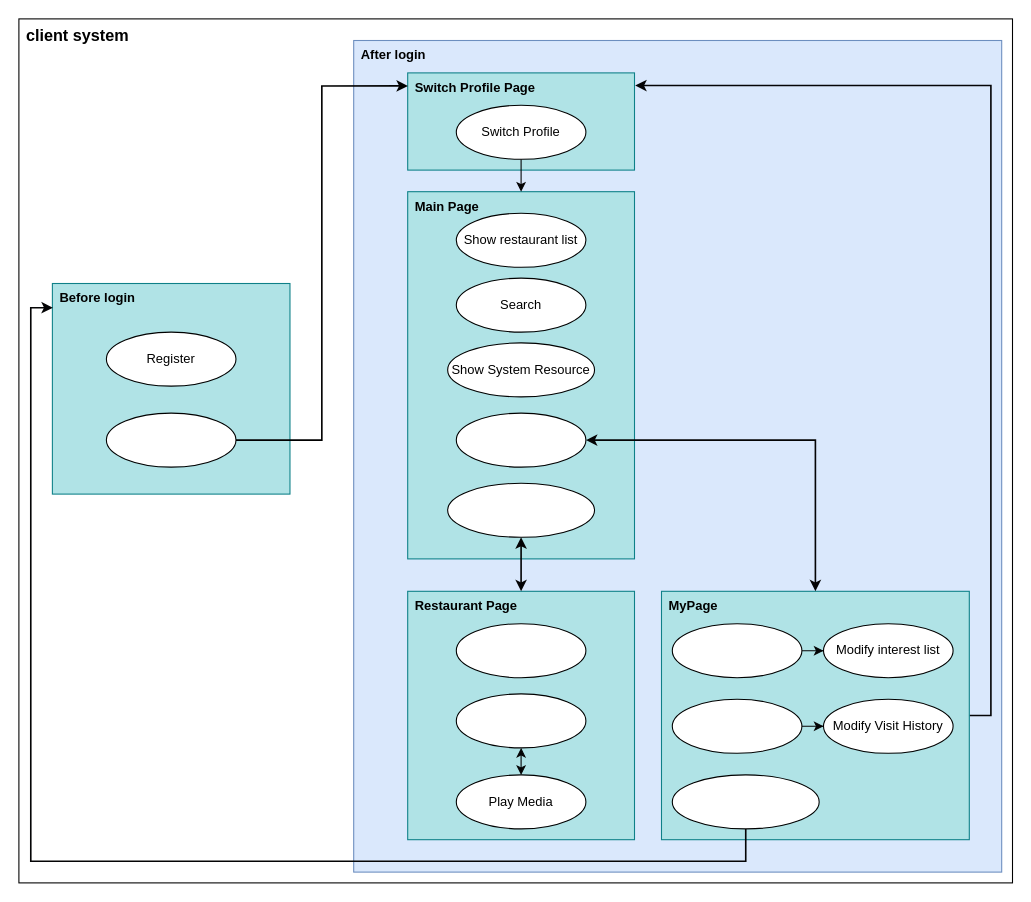
The diagram is 1031 pixels wide and 902 high, and some of its shapes have lost their labels. Each missing label, with the centre of its shape:
"Enter MyPage" belongs at point 520,439.
"Enter Restaurant Page" belongs at point 521,509.
"Login" belongs at point 170,439.
"Logout" belongs at point 745,801.
"Select Media" belongs at point 520,720.
"Show interest list" belongs at point 736,650.
"Show Restaurant Info" belongs at point 520,650.
"Show Visit History" belongs at point 736,725.
